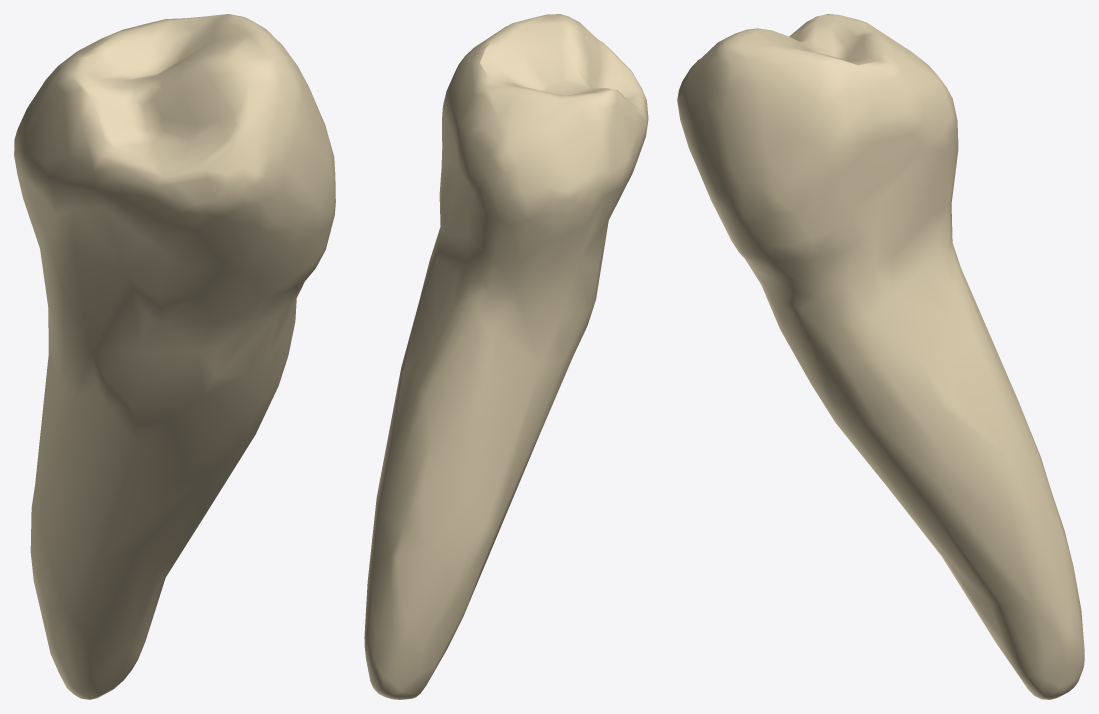
Rendered from tooth-35.glb.
The picture shows the model from 3 angles, left to right: view 1: azimuth 30°, elevation 25°; view 2: azimuth 150°, elevation 25°; view 3: azimuth 270°, elevation 25°; orthographic projection. The views are drawn at different scales.
Visible parts, largest first — view 1: tooth-35; view 2: tooth-35; view 3: tooth-35.
Boxes of the visible parts, x1=… form: tooth-35: x1=14, y1=14, x2=335, y2=699; tooth-35: x1=364, y1=14, x2=648, y2=699; tooth-35: x1=677, y1=14, x2=1084, y2=699.
Bounding box in the file's own units: 0.203 × 0.5845 × 0.3325.
